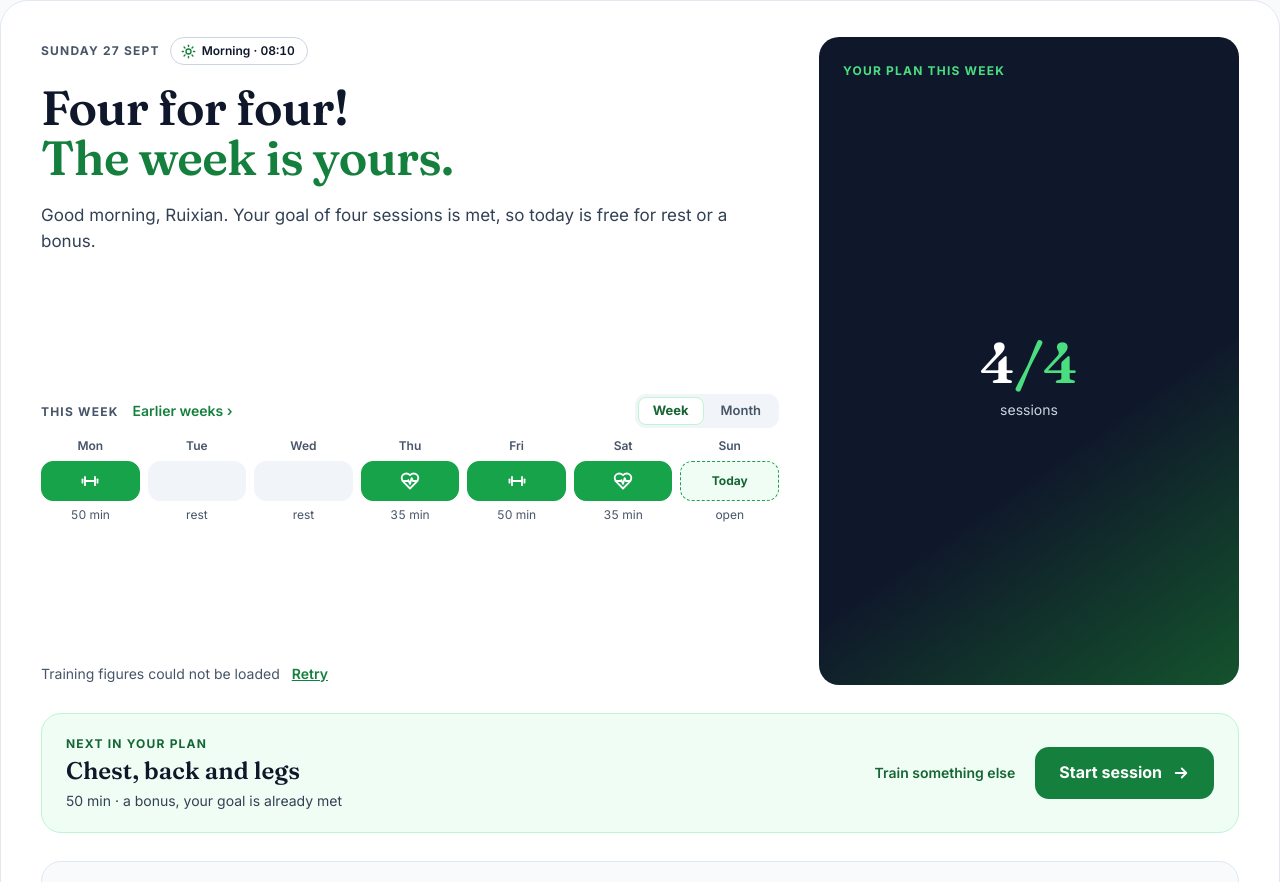
Test: CoachBriefComponent › says the training figures could not be loaded, with a retry, when the insight fails
Click the button "Retry" at point(310, 674), box [292, 663, 328, 685]
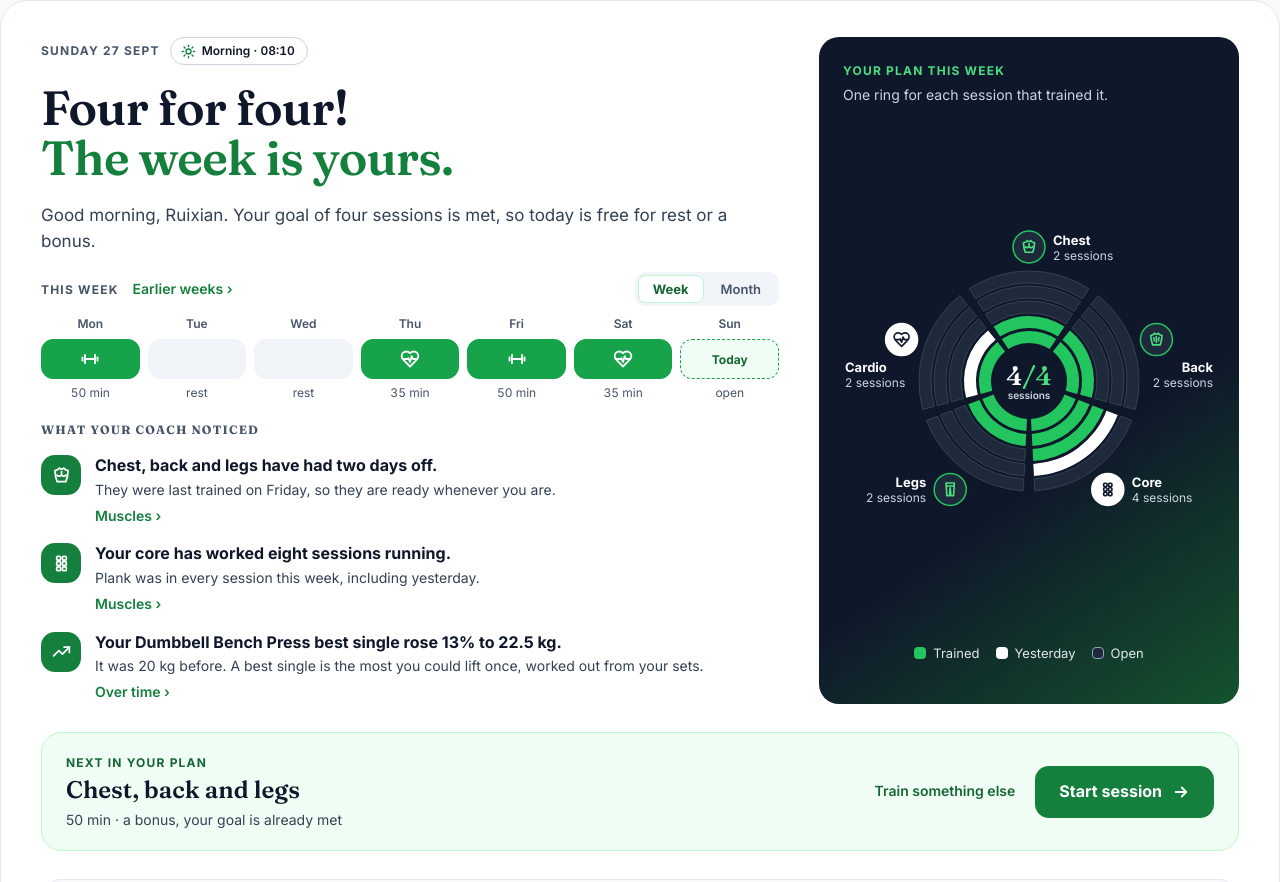
expect the element that starts with "What your coach noticed" is shown: met, box [41, 420, 779, 704]
